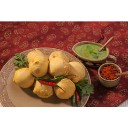bonda: (34, 79, 54, 100), (29, 56, 48, 76), (56, 80, 75, 99), (48, 56, 67, 74), (16, 69, 34, 86), (68, 60, 84, 79)
